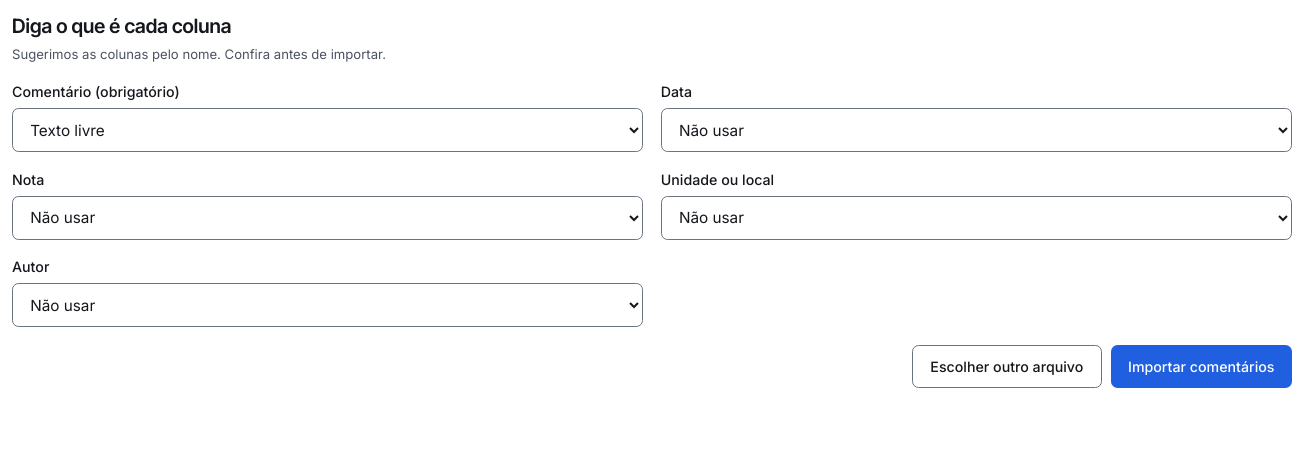
MapeamentoDeColunas › recusa a mesma coluna em dois usos
The image size is (1304, 470).
Select "Texto livre" in the dropdown labelled "Nota" at (328, 218), box [12,196,643,240]
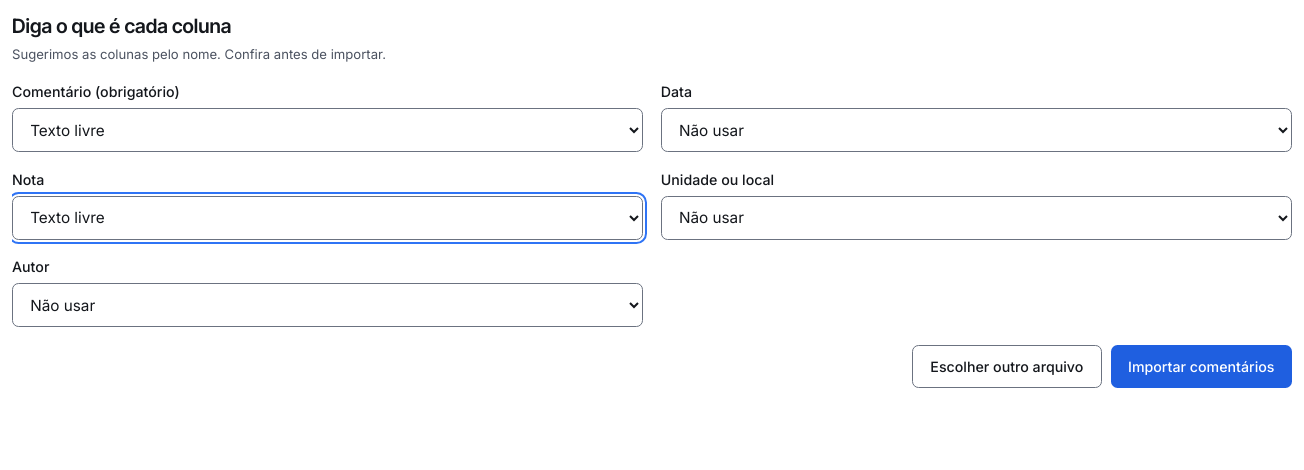
Click the button "Importar comentários" at (1201, 366), box [1110,344,1292,388]
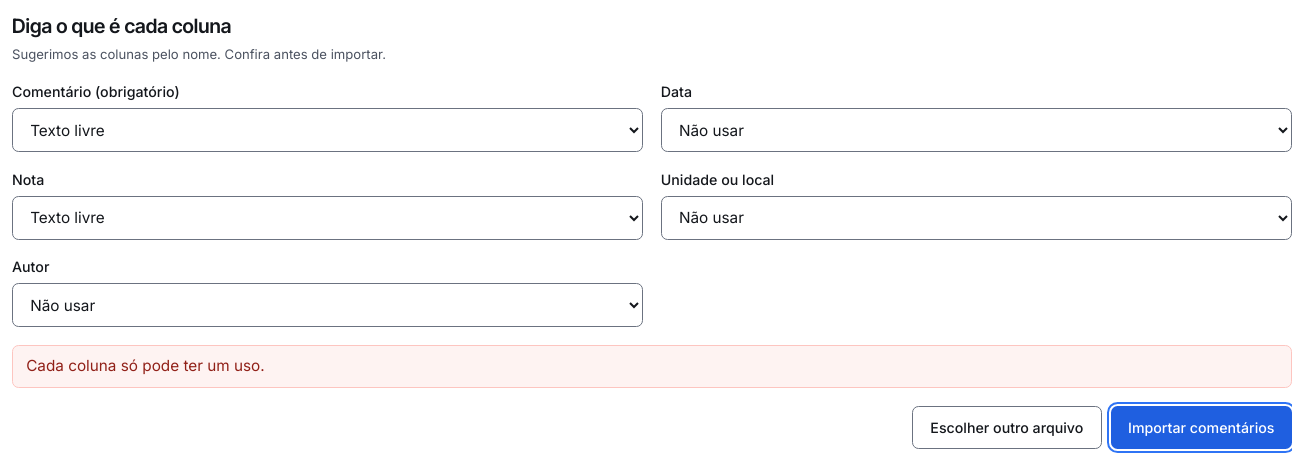
Check: the message reads "Cada coluna só pode ter um uso.", box [26,356,265,375]
